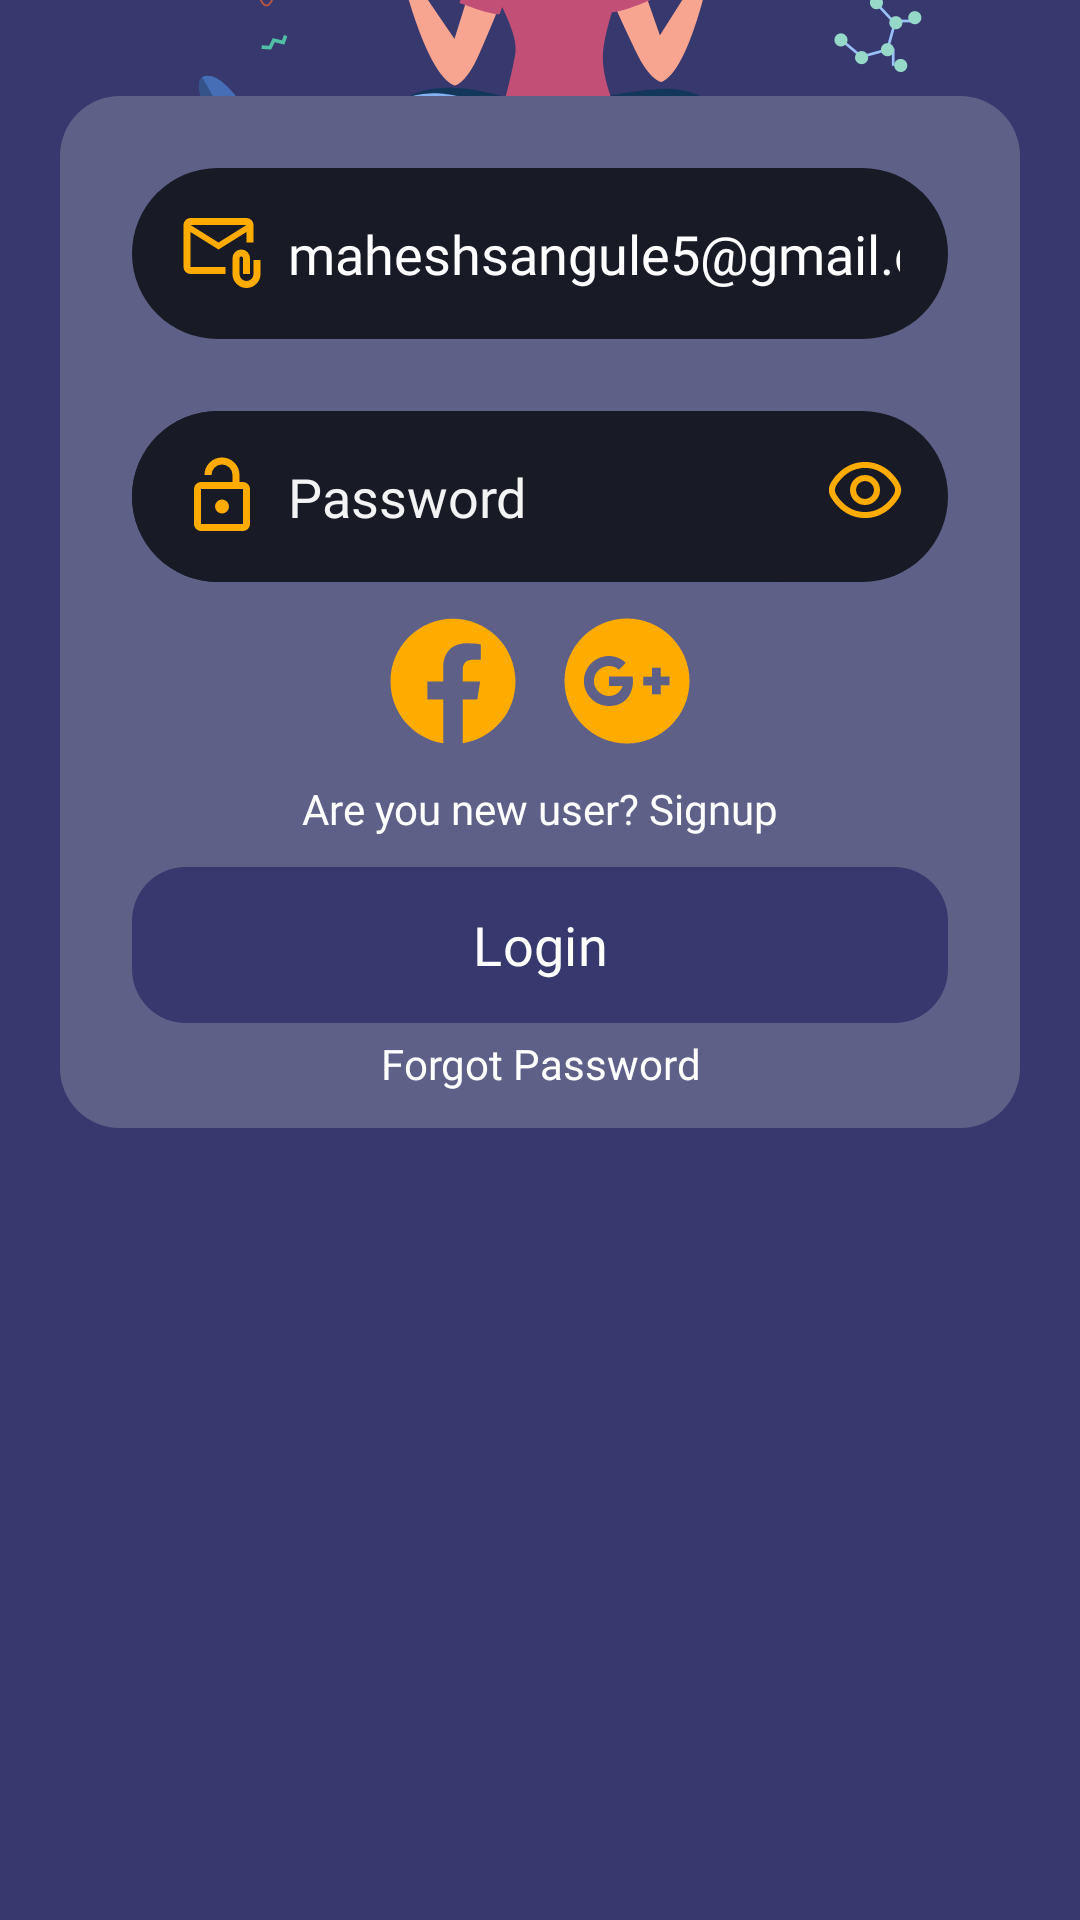

Screen size 1080×1920. Icon name, then its center in pixels as (x,y):
eye visible: (865,490)
